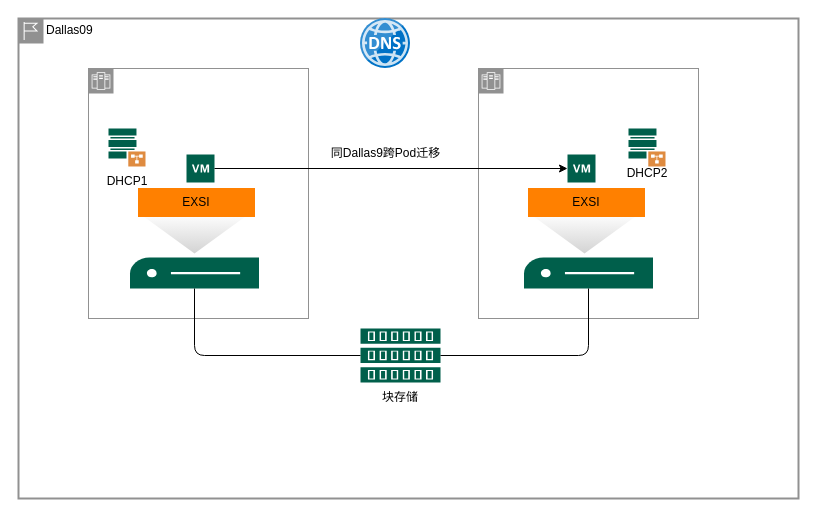
Some shapes in this 816 by 516 pixel diagram are drawn without their labels. The box of each missing label's shape, as (x1, y1, x2, y2) in pixels:
pod - A: (88, 68, 308, 318)
pod - B: (478, 68, 698, 318)
